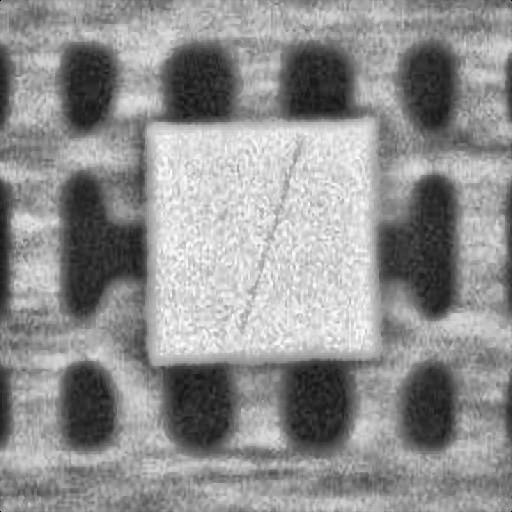DIE_CRACK: (358, 90, 448, 220)
